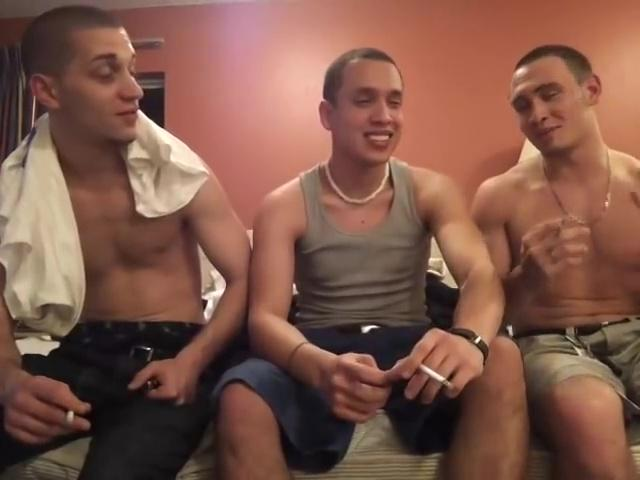cigarette: (416, 359, 457, 392), (64, 407, 77, 428)
